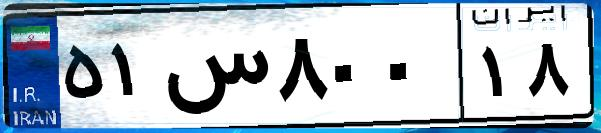0: (385, 28, 445, 110), (330, 28, 385, 110)
1: (475, 38, 525, 113), (110, 28, 158, 98)
5: (57, 26, 110, 100)
8: (270, 28, 330, 110), (525, 38, 570, 115)
س: (158, 20, 270, 120)
